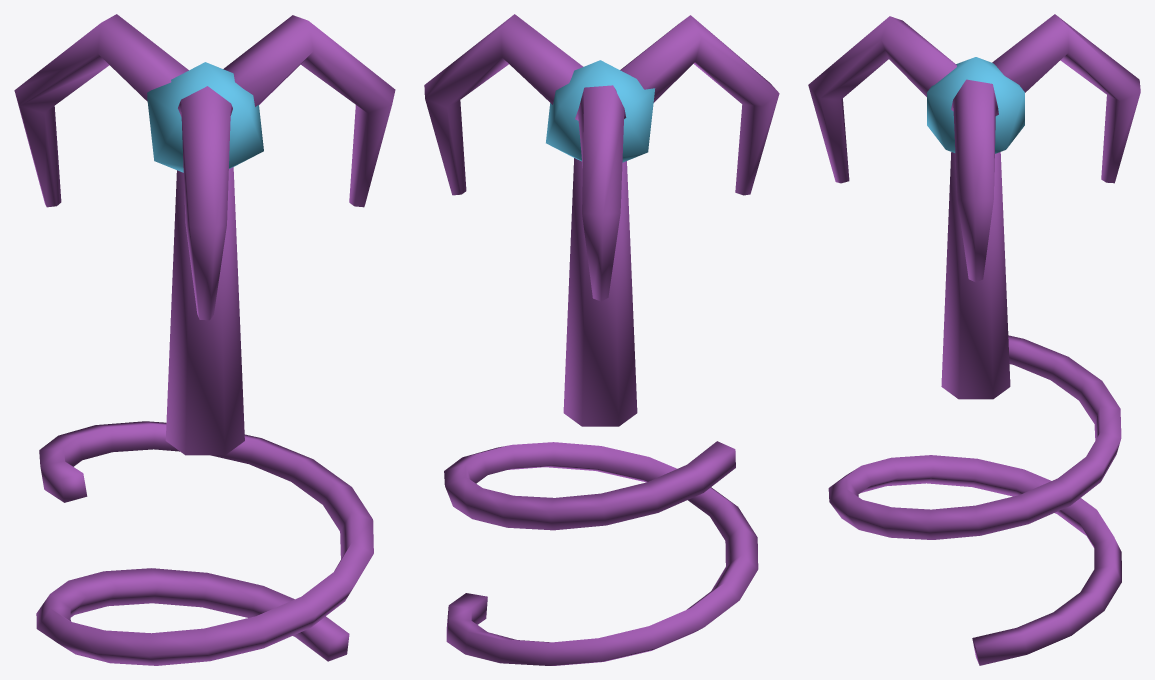
The model's file is dual_hook.glb.
3 renders of one model, left to right at view 1: azimuth 30°, elevation 25°; view 2: azimuth 150°, elevation 25°; view 3: azimuth 270°, elevation 25°, orthographic. The views are drawn at different scales.
Visible parts, largest first — view 1: dual_hook_v0; view 2: dual_hook_v0; view 3: dual_hook_v0.
Boxes of the visible parts, bbox=[...] form: dual_hook_v0: bbox=[14, 14, 395, 665]; dual_hook_v0: bbox=[424, 14, 779, 665]; dual_hook_v0: bbox=[808, 14, 1140, 665].
Size of the model in its own units: 0.1774 by 0.3275 by 0.1736.
